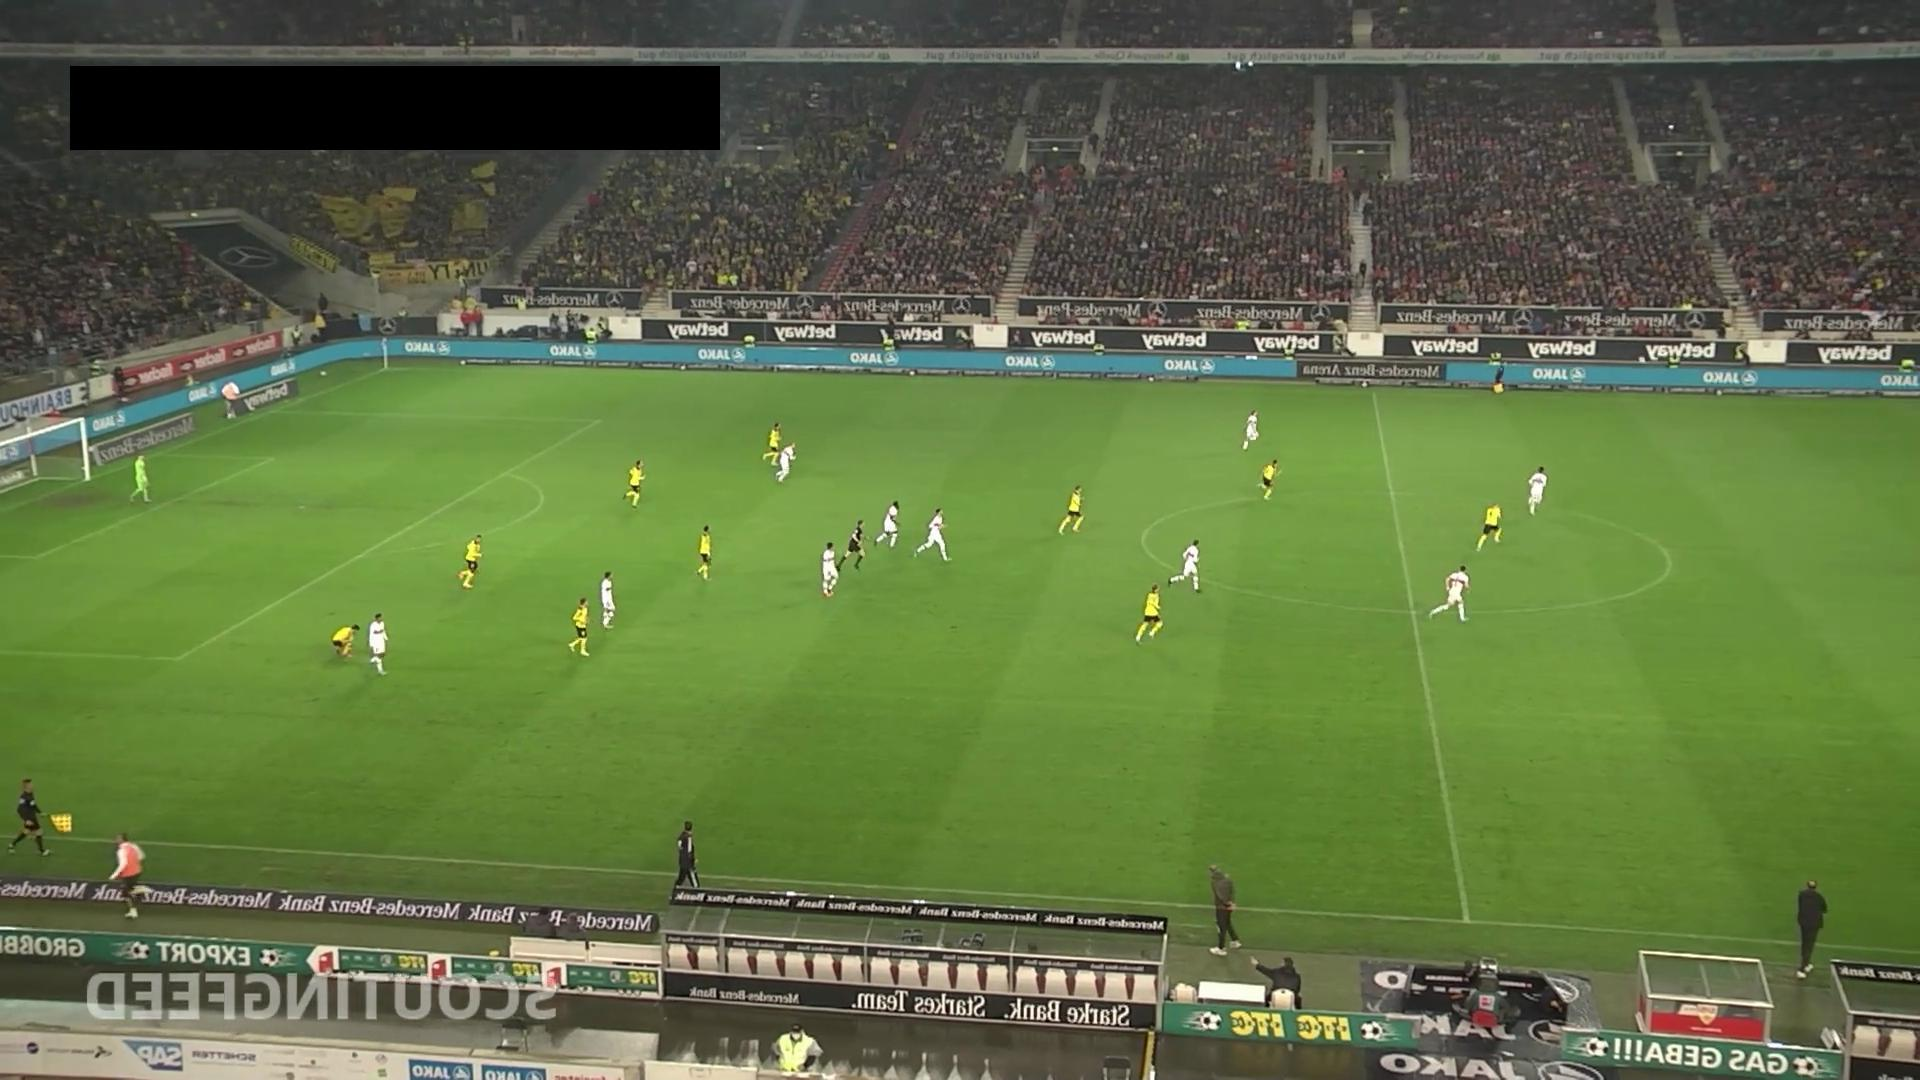goalkeeper: (128, 452, 152, 504)
player: (1428, 564, 1472, 624), (912, 507, 951, 563), (1134, 582, 1163, 646), (1170, 538, 1202, 592), (367, 612, 389, 675), (568, 597, 591, 657), (1058, 484, 1084, 535), (1476, 503, 1503, 551), (460, 533, 483, 588), (875, 500, 901, 548), (1526, 465, 1548, 516), (622, 458, 644, 508), (330, 623, 360, 658), (821, 541, 839, 598), (600, 570, 616, 630), (773, 442, 796, 483), (695, 525, 712, 580), (1260, 458, 1280, 500), (1241, 409, 1260, 451), (765, 421, 783, 462)
referee: (3, 778, 74, 864), (843, 520, 867, 571), (1490, 359, 1509, 395)
